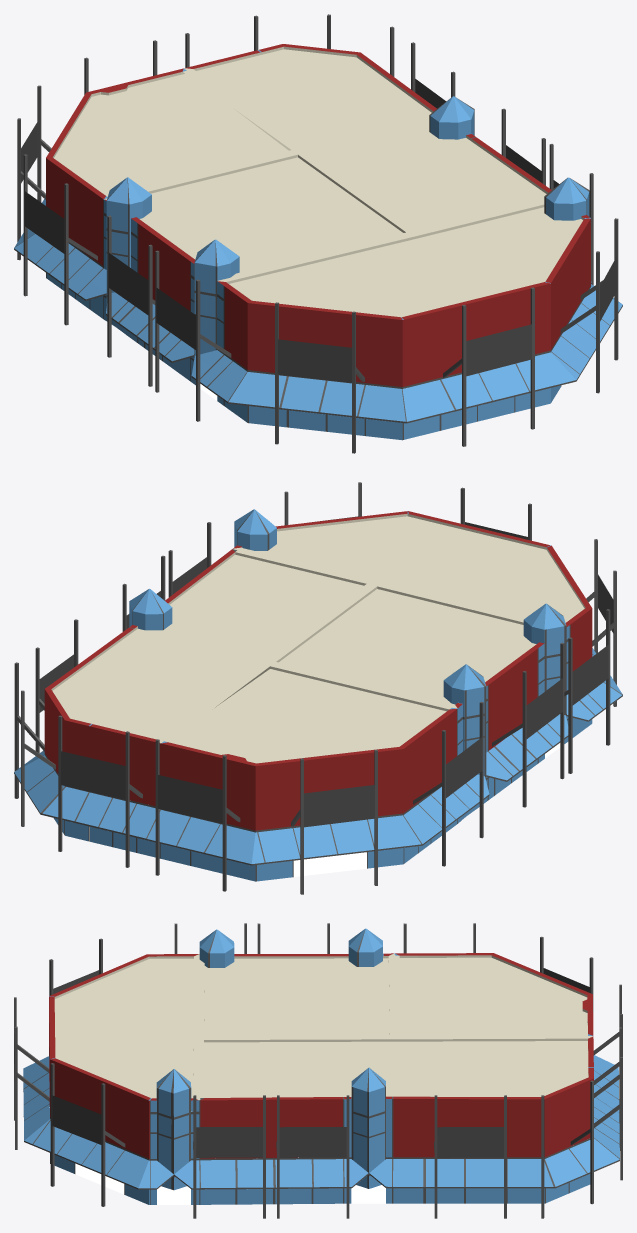
Rendered from carpet_WBv5.glb.
3 views of the same model, one above another, from view 1: azimuth 30°, elevation 25°; view 2: azimuth 150°, elevation 25°; view 3: azimuth 270°, elevation 25° (orthographic). The views are drawn at different scales.
Visible parts, largest first — view 1: 279815706; view 2: 279815706; view 3: 279815706.
Part boxes in pixels (box(x1,y1,x2,y2)): 279815706: box(14, 14, 622, 453); 279815706: box(14, 482, 622, 894); 279815706: box(14, 923, 622, 1218).
Size of the model in its own units: 185 by 66.72 by 275.
